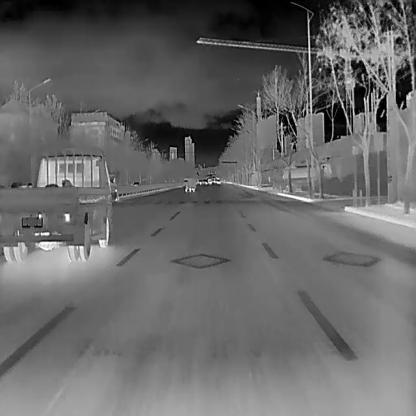car: (0, 146, 119, 261), (281, 156, 328, 186), (184, 179, 195, 192), (196, 178, 207, 184), (215, 176, 221, 186), (207, 177, 214, 185), (131, 180, 139, 186)
